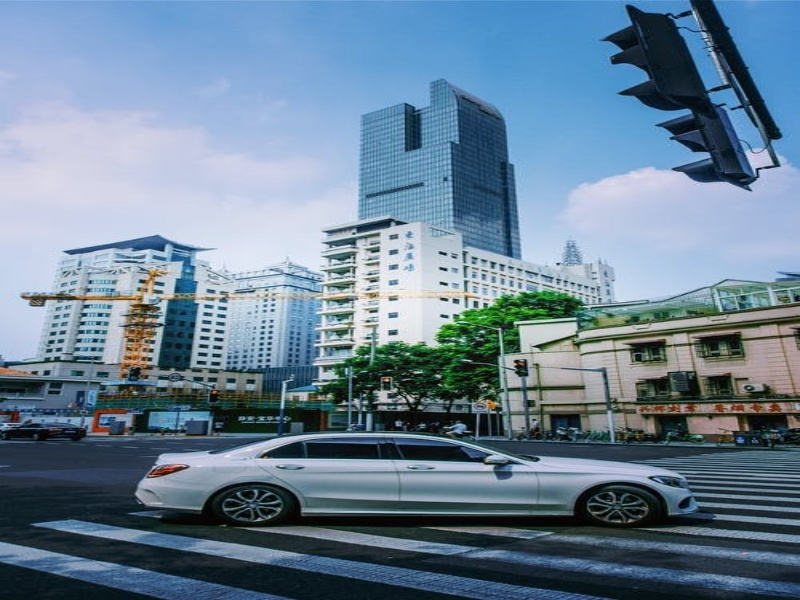zebra cross: (1, 446, 800, 598)
